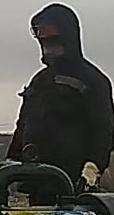gloves: (75, 156, 105, 193)
helmet: (29, 15, 68, 39)
vest: (18, 59, 113, 162)
